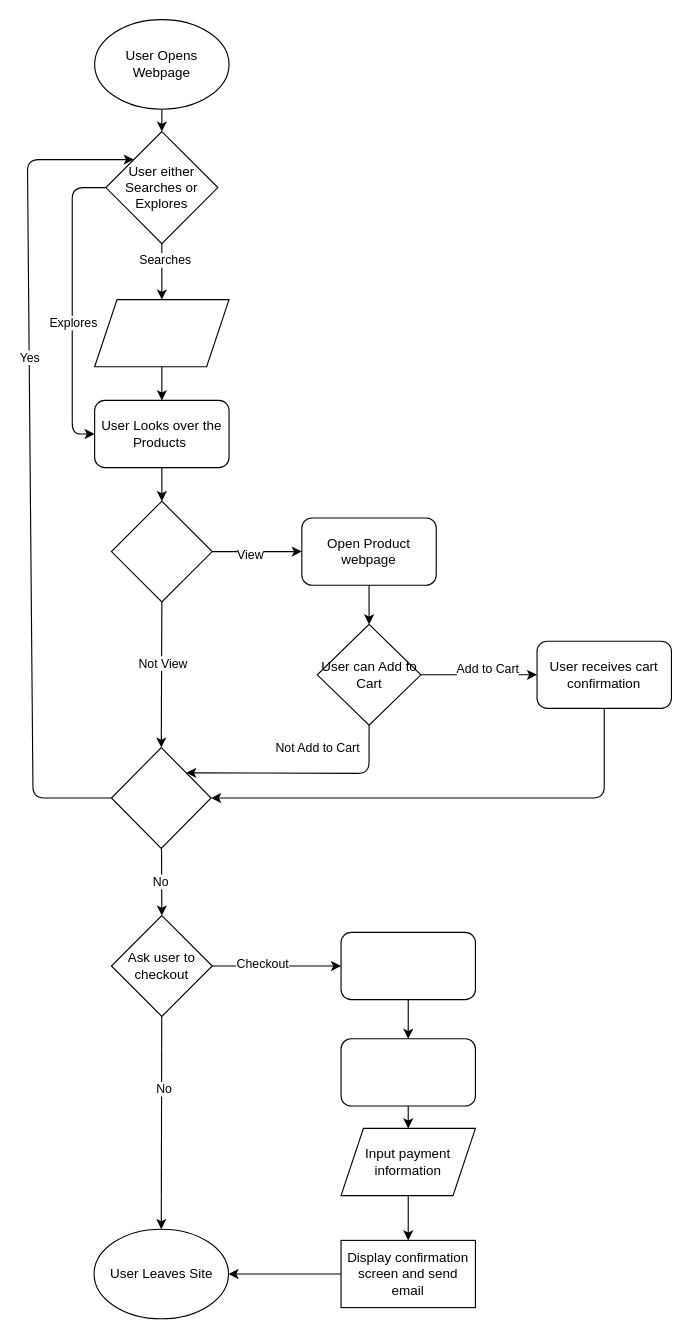
Image size: 691x1338. Some labels were removed from this diagram. Here are the shapes that lost their labels. From the top down, the centre of each, then its label:
At [161,332]: "User enters the product in".
At [161,551]: "User can view an item".
At [160,797]: "Ask user if they will continue shopping".
At [407,965]: "Display view cart Screen".
At [407,1072]: "Display view payment screen".
